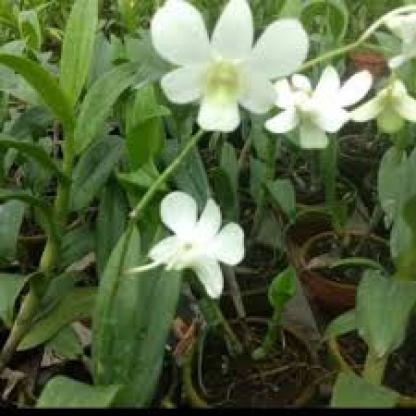ANGGREK: (138, 6, 378, 297)
